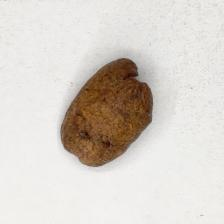NG: (119, 55, 154, 109), (75, 127, 119, 153)
